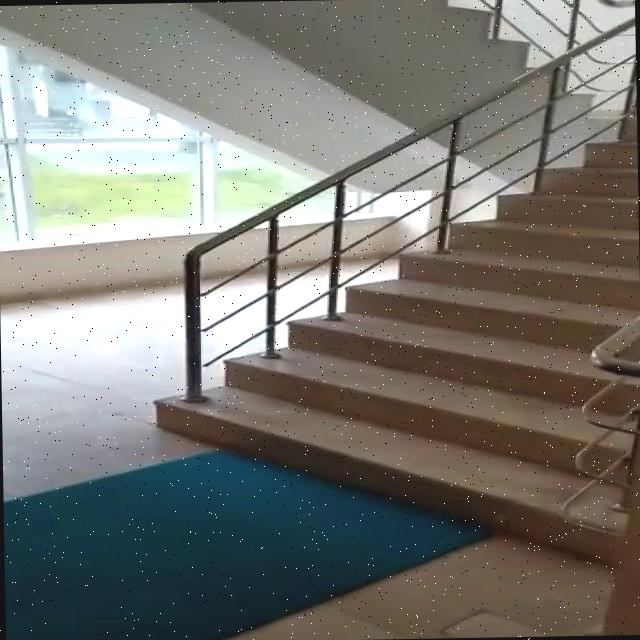stairs: (147, 108, 640, 569)
